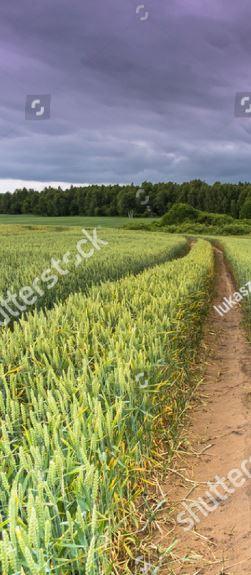Wheat: (13, 349, 132, 563)
